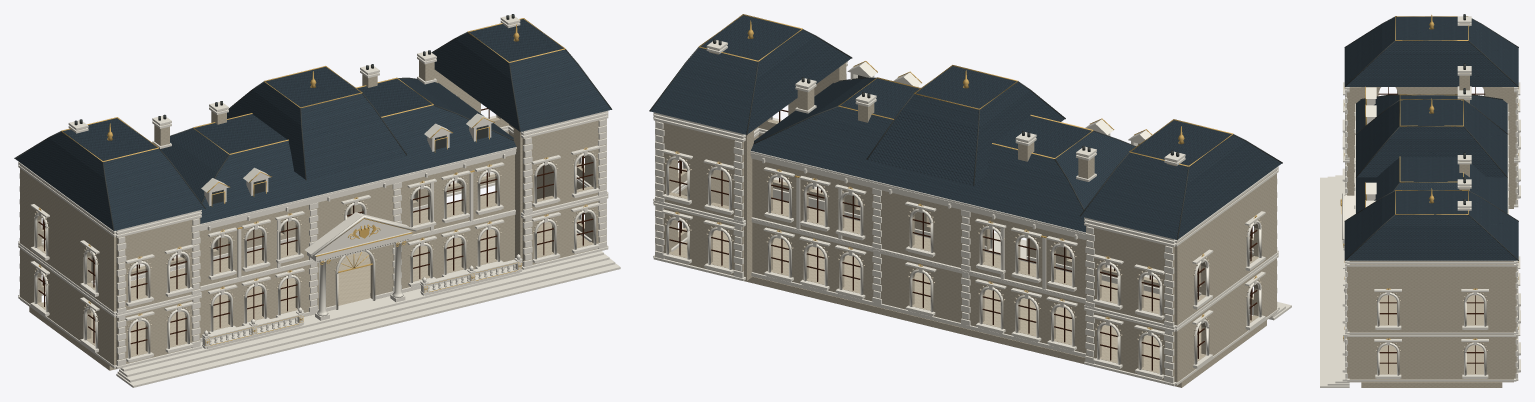
File: palace.glb
3 views of the same model, side by side, from view 1: azimuth 30°, elevation 25°; view 2: azimuth 150°, elevation 25°; view 3: azimuth 270°, elevation 25° (orthographic). The views are drawn at different scales.
Visible parts, largest first — view 1: palace Chateau Ardoises jointoyees.004, palace Chateau Calcaire de taille.007, palace Chateau Moulures ivoire.008, palace Chateau Moulures ivoire.007, palace Chateau Chene des portes.004, palace Chateau Bronze dore patine.007, palace Chateau Ferronnerie noire.007, palace Chateau Bronze dore patine.008, palace Chateau Calcaire de taille.008, palace Chateau Ferronnerie noire.008; view 2: palace Chateau Ardoises jointoyees.004, palace Chateau Calcaire de taille.007, palace Chateau Moulures ivoire.008, palace Chateau Moulures ivoire.007, palace Chateau Chene des portes.004, palace Chateau Bronze dore patine.007, palace Chateau Ferronnerie noire.007, palace Chateau Calcaire de taille.008; view 3: palace Chateau Ardoises jointoyees.004, palace Chateau Calcaire de taille.007, palace Chateau Moulures ivoire.008, palace Chateau Moulures ivoire.007, palace Chateau Ferronnerie noire.007, palace Chateau Bronze dore patine.007, palace Maconnerie baie condamnee.011, palace Maconnerie baie condamnee.010, palace Chateau Chene des portes.004, palace Maconnerie baie condamnee.009.
Boxes of the visible parts, box(x1,y1,x2,y2) form: palace Chateau Ardoises jointoyees.004: box(15, 19, 611, 230); palace Chateau Calcaire de taille.007: box(20, 23, 606, 370); palace Chateau Moulures ivoire.008: box(18, 15, 620, 387); palace Chateau Moulures ivoire.007: box(34, 94, 596, 358); palace Chateau Chene des portes.004: box(38, 108, 593, 354); palace Chateau Bronze dore patine.007: box(39, 18, 587, 345); palace Chateau Ferronnerie noire.007: box(14, 14, 612, 231); palace Chateau Bronze dore patine.008: box(208, 170, 518, 345); palace Chateau Calcaire de taille.008: box(33, 151, 597, 331); palace Chateau Ferronnerie noire.008: box(212, 125, 488, 204); palace Chateau Ardoises jointoyees.004: box(650, 15, 1281, 239); palace Chateau Calcaire de taille.007: box(655, 48, 1276, 387); palace Chateau Moulures ivoire.008: box(653, 40, 1291, 386); palace Chateau Moulures ivoire.007: box(666, 95, 1261, 374); palace Chateau Chene des portes.004: box(669, 109, 1257, 370); palace Chateau Bronze dore patine.007: box(675, 14, 1256, 329); palace Chateau Ferronnerie noire.007: box(649, 29, 1282, 240); palace Chateau Calcaire de taille.008: box(664, 155, 1262, 346); palace Chateau Ardoises jointoyees.004: box(1344, 17, 1518, 260); palace Chateau Calcaire de taille.007: box(1347, 23, 1516, 387); palace Chateau Moulures ivoire.008: box(1320, 16, 1520, 387); palace Chateau Moulures ivoire.007: box(1342, 89, 1518, 375); palace Chateau Ferronnerie noire.007: box(1344, 14, 1518, 260); palace Chateau Bronze dore patine.007: box(1340, 14, 1518, 340); palace Maconnerie baie condamnee.011: box(1421, 293, 1441, 325); palace Maconnerie baie condamnee.010: box(1421, 343, 1441, 374); palace Chateau Chene des portes.004: box(1378, 87, 1485, 373); palace Maconnerie baie condamnee.009: box(1421, 87, 1441, 95).
Size of the model in its own units: 43.16 by 17.41 by 17.08.
Materials: 6 (3 with a texture image).
